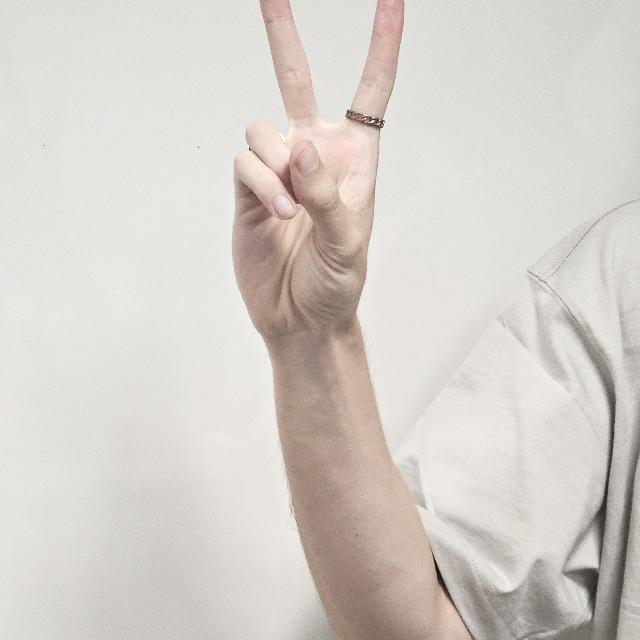Triangulo: (209, 1, 401, 348)
